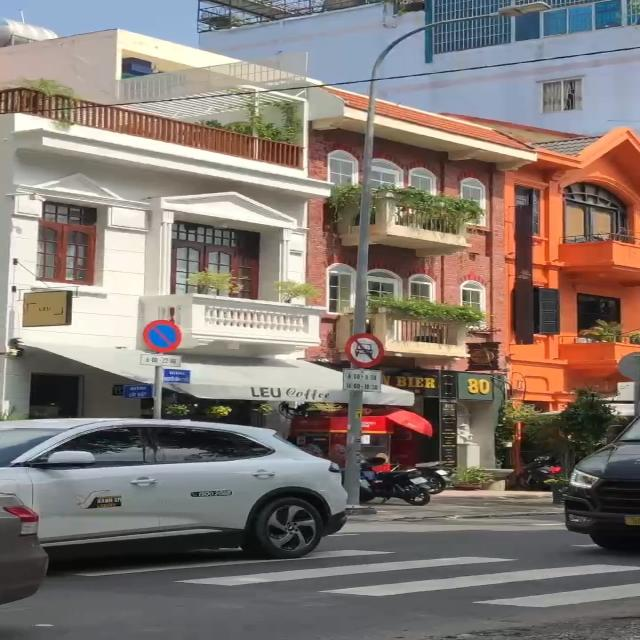Bien bao cam do xe: (143, 318, 190, 354)
Bien bao cam xe oto: (343, 330, 387, 369)
